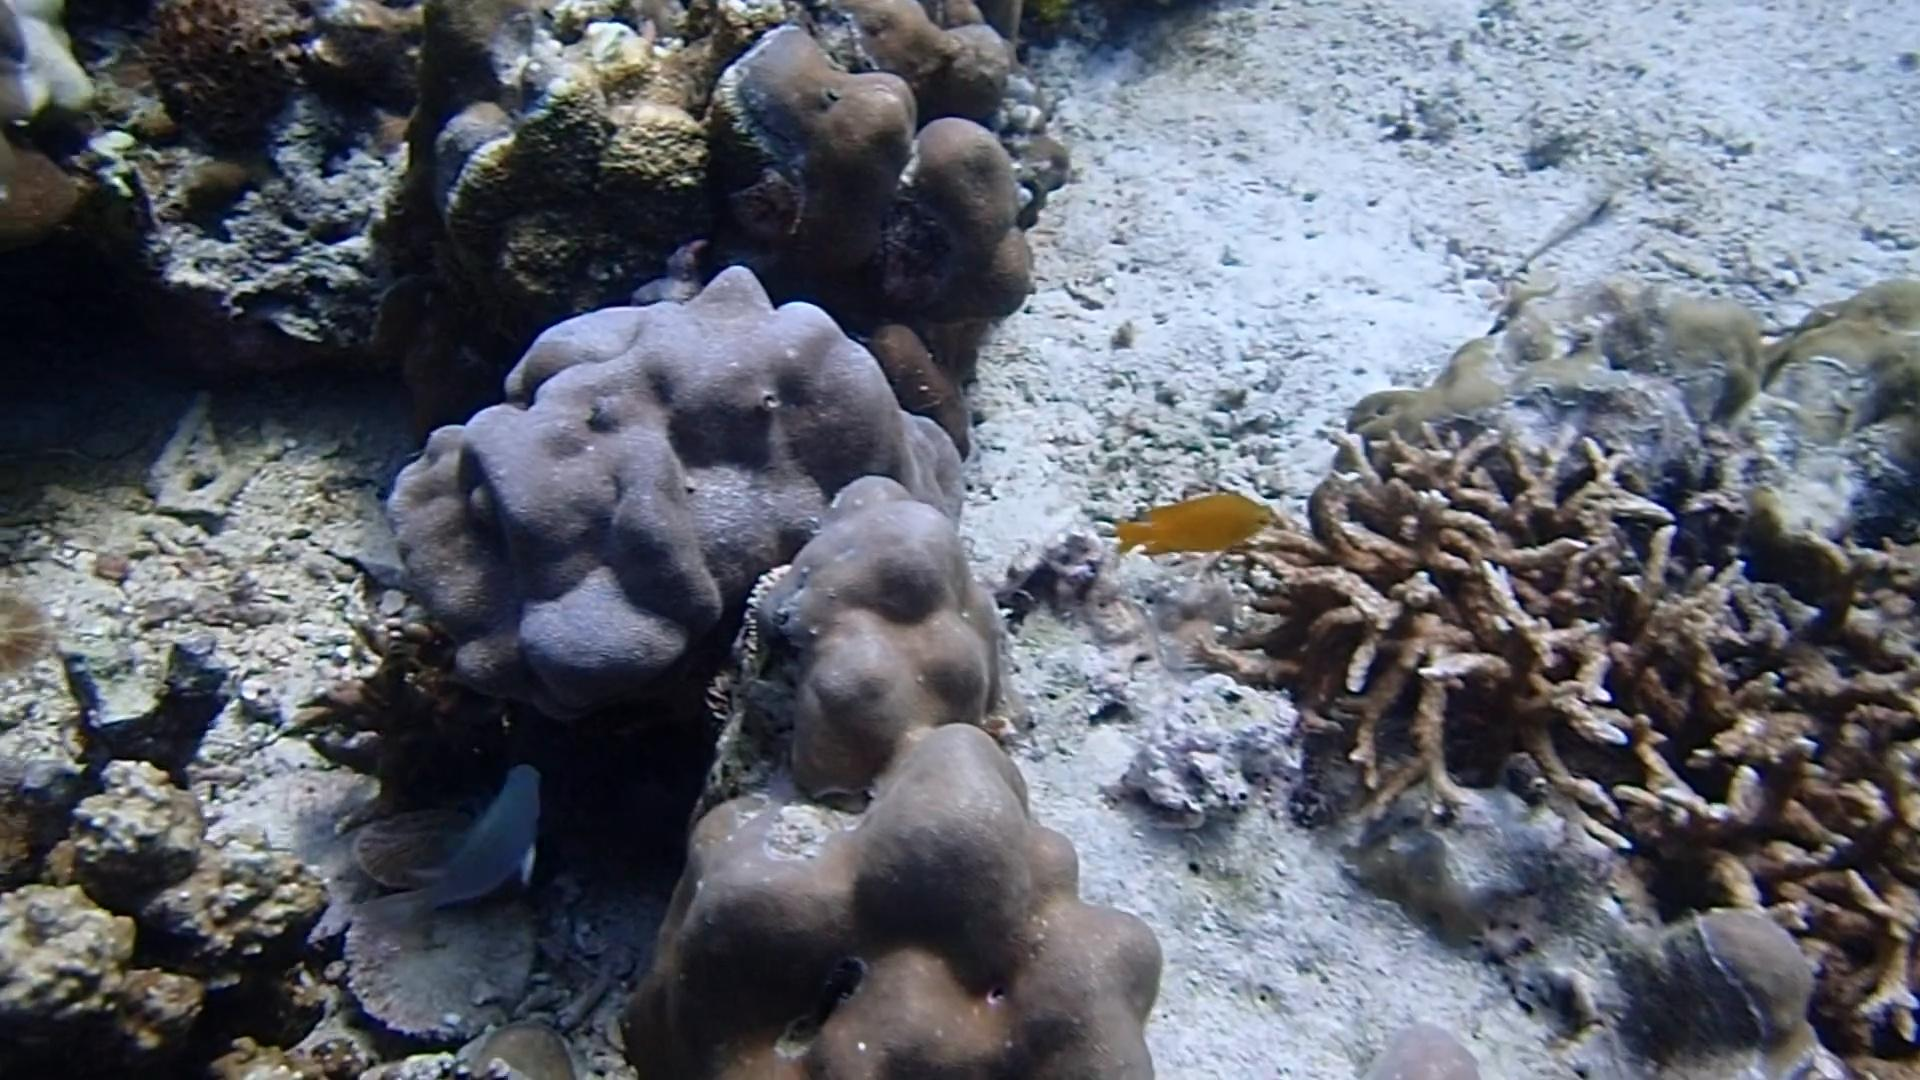Blue Fish Two: (342, 756, 562, 953)
Yellow Fish: (1097, 480, 1288, 566)
